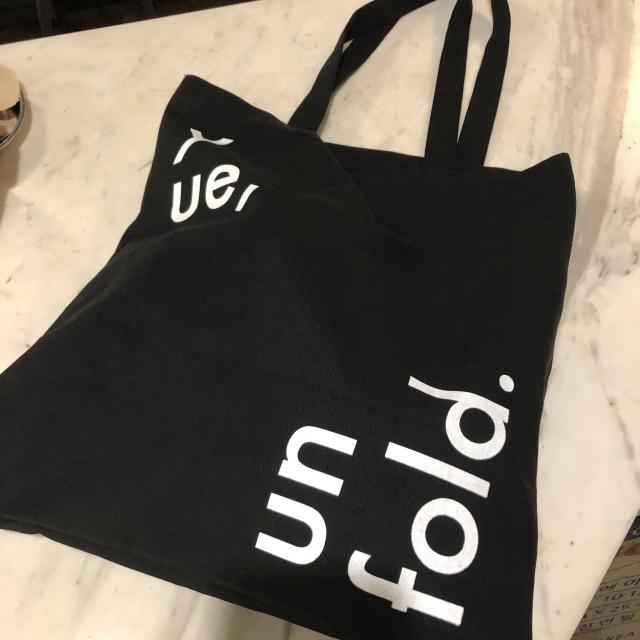ecobag: (39, 17, 587, 623)
